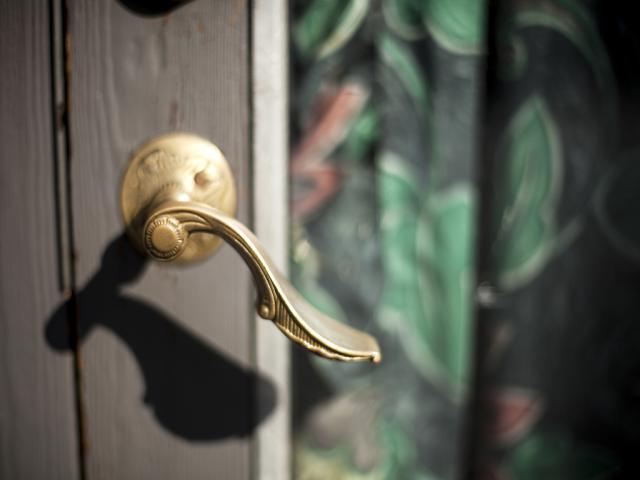Door-handle: (121, 131, 380, 362)
